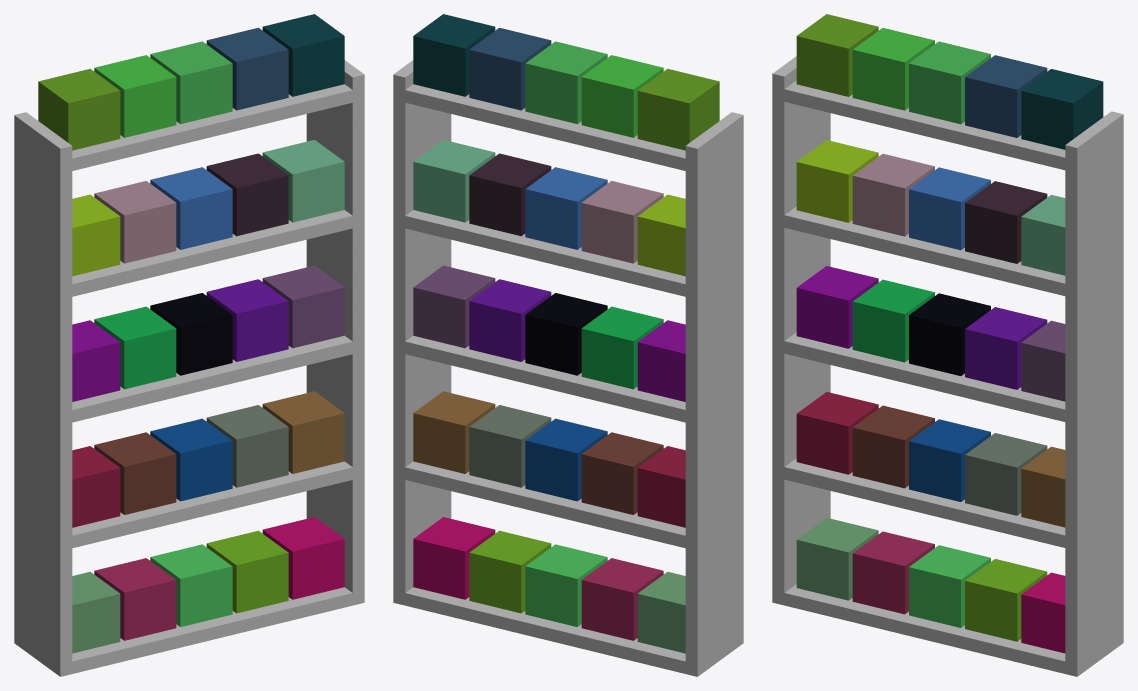
Rendered from shelfModel.glb.
The picture shows the model from 3 angles, left to right: view 1: azimuth 30°, elevation 25°; view 2: azimuth 150°, elevation 25°; view 3: azimuth 330°, elevation 25°; orthographic projection.
Parts seen in each view (by area): view 1: rightBeam, leftBeam, shelf4, shelf0, shelf1, shelf2, shelf3, box4_4, box1_2, box0_0, box1_3, box2_3 (+20 smaller); view 2: rightBeam, leftBeam, shelf4, shelf0, shelf1, shelf2, shelf3, box4_4, box1_2, box0_0, box1_3, box2_3 (+20 smaller); view 3: leftBeam, rightBeam, shelf0, shelf4, shelf3, shelf1, shelf2, box4_0, box0_3, box1_3, box3_4, box4_1 (+20 smaller).
Part boxes in pixels (box(x1,y1,x2,y2)): rightBeam: box(14, 112, 72, 676); leftBeam: box(306, 60, 364, 605); shelf4: box(72, 84, 352, 170); shelf0: box(72, 587, 352, 673); shelf1: box(72, 461, 352, 548); shelf2: box(72, 335, 352, 422); shelf3: box(72, 210, 352, 296); box4_4: box(38, 68, 120, 150); box1_2: box(150, 418, 232, 501); box0_0: box(262, 517, 344, 599); box1_3: box(94, 432, 176, 514); box2_3: box(94, 306, 176, 389); rightBeam: box(685, 112, 743, 676); leftBeam: box(393, 60, 451, 605); shelf4: box(405, 84, 685, 170); shelf0: box(405, 587, 685, 673); shelf1: box(405, 461, 685, 548); shelf2: box(405, 335, 685, 422); shelf3: box(405, 210, 685, 296); box4_4: box(637, 68, 719, 150); box1_2: box(525, 418, 607, 501); box0_0: box(413, 517, 495, 599); box1_3: box(581, 432, 663, 514); box2_3: box(581, 306, 663, 389); leftBeam: box(1065, 111, 1123, 676); rightBeam: box(772, 56, 830, 605); shelf0: box(784, 584, 1065, 673); shelf4: box(784, 80, 1065, 170); shelf3: box(784, 206, 1065, 295); shelf1: box(784, 458, 1065, 547); shelf2: box(784, 332, 1065, 421); box4_0: box(1021, 69, 1103, 149); box0_3: box(852, 531, 934, 614); box1_3: box(852, 405, 934, 488); box3_4: box(796, 140, 878, 222); box4_1: box(965, 55, 1047, 137).
Size of the model in its own units: 7.6 by 13.45 by 2.
